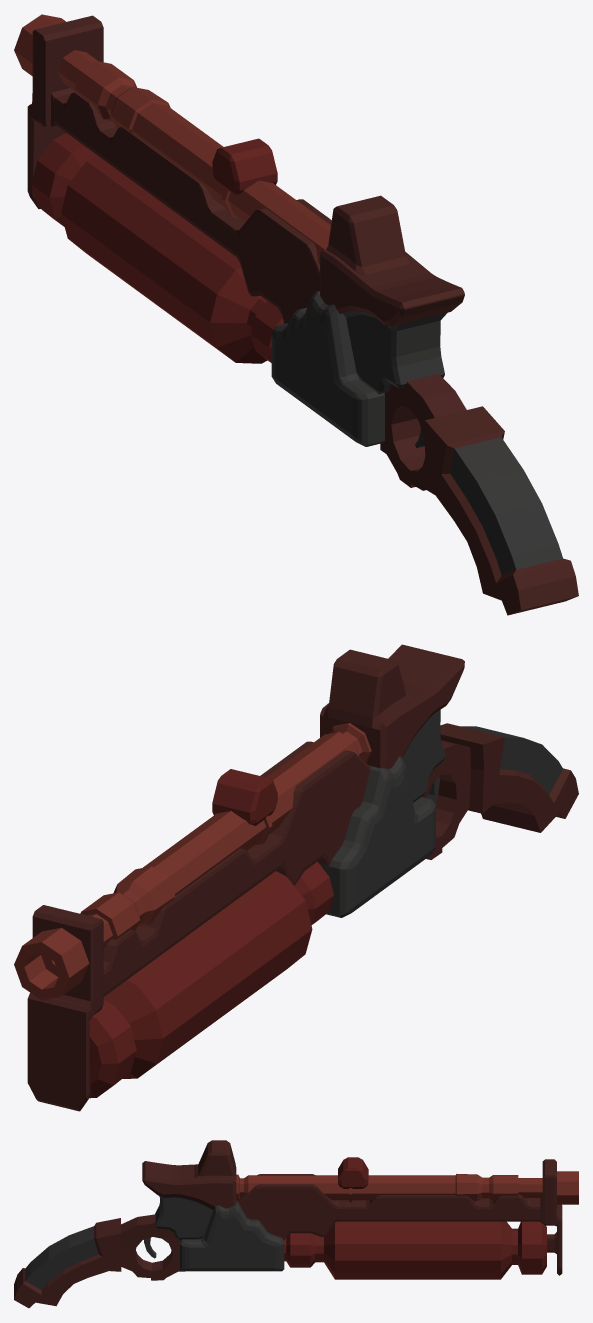
Rendered from LongPistol.gltf.
3 renders of one model, top to bottom at view 1: azimuth 30°, elevation 25°; view 2: azimuth 150°, elevation 25°; view 3: azimuth 270°, elevation 25°, orthographic. The views are drawn at different scales.
Visible parts, largest first — view 1: LongPistol; view 2: LongPistol; view 3: LongPistol.
Boxes of the visible parts, box(x1,y1,x2,y2) form: LongPistol: box(14, 14, 578, 615); LongPistol: box(14, 644, 578, 1111); LongPistol: box(14, 1140, 578, 1308).
Bounding box in the file's own units: 0.6385 × 1.66 × 5.5.
